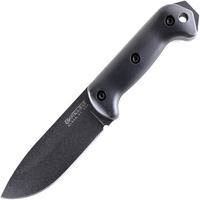knife: (1, 3, 192, 199)
